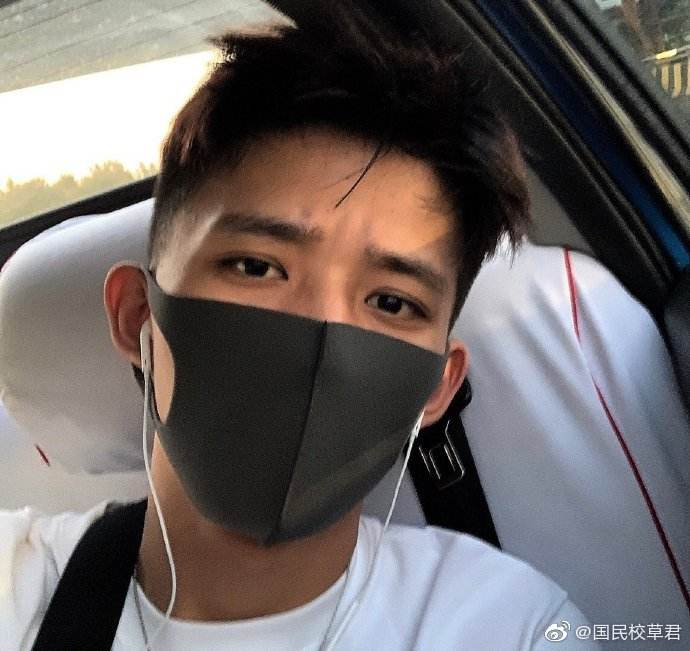person: (176, 59, 544, 651)
